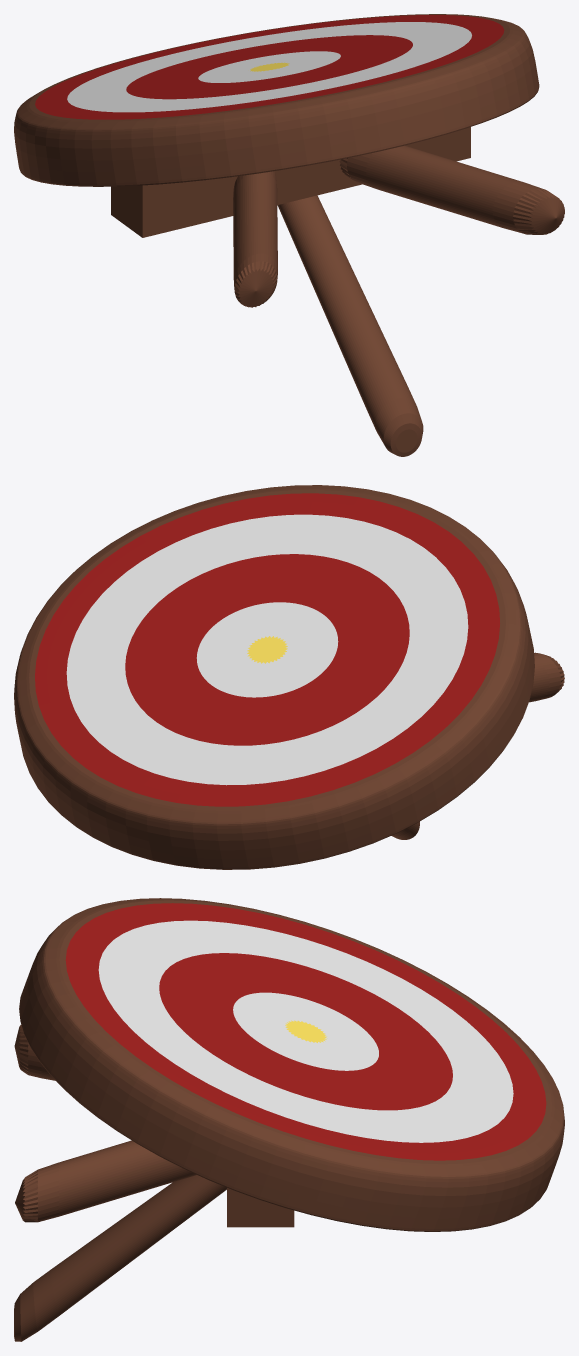
File: AimTarget.fbx
3 views of the same model, one above another, from view 1: azimuth 30°, elevation 25°; view 2: azimuth 150°, elevation 25°; view 3: azimuth 270°, elevation 25° (orthographic). The views are drawn at different scales.
Visible parts, largest first — view 1: Cercle, Cylindre.001, Cylindre.003, Cube, Cylindre.002; view 2: Cercle, Cylindre.002; view 3: Cercle, Cylindre.001, Cylindre.003, Cube, Cylindre.002.
Part boxes in pixels (left/top/right/bottom): Cercle: left=14, top=14, right=539, bottom=186; Cylindre.001: left=277, top=195, right=423, bottom=456; Cylindre.003: left=339, top=145, right=564, bottom=234; Cube: left=111, top=127, right=470, bottom=237; Cylindre.002: left=233, top=171, right=277, bottom=307; Cercle: left=14, top=485, right=534, bottom=869; Cylindre.002: left=529, top=652, right=564, bottom=702; Cercle: left=19, top=898, right=564, bottom=1231; Cylindre.001: left=14, top=1175, right=226, bottom=1341; Cylindre.003: left=15, top=1140, right=196, bottom=1222; Cube: left=227, top=1188, right=294, bottom=1227; Cylindre.002: left=14, top=1025, right=55, bottom=1080.
Bounding box in the file's own units: 112 × 83.84 × 110.
